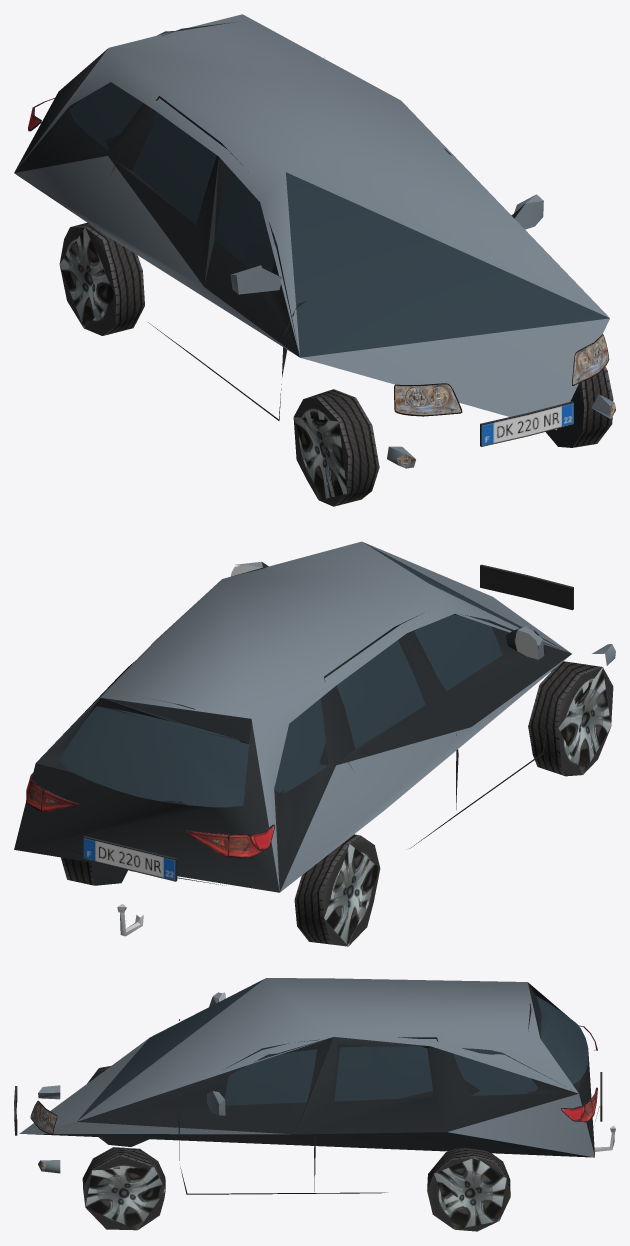
File: sedan_far.glb
The picture shows the model from 3 angles, top to bottom: view 1: azimuth 30°, elevation 25°; view 2: azimuth 150°, elevation 25°; view 3: azimuth 270°, elevation 25°; orthographic projection. The views are drawn at different scales.
Visible parts, largest first — view 1: paint-Body-body, glass-FrontGlass-body, rubber-BlackPlastic-body, glass-Glass-body, rubber-Tires-(False, False), rubber-Tires-(False, True), headlamp-FrontLights-body, trim-LicensePlate-body, rubber-Tires-(True, False), rubber-BackWheels-(True, False), rubber-Lines-body; view 2: paint-Body-body, rubber-BlackPlastic-body, glass-Glass-body, rubber-Tires-(False, False), rubber-Tires-(False, True), trim-LicensePlate-body, taillamp-RearLights-body, rubber-Lines-body, glass-FrontGlass-body, mirror-Mirror-body, rubber-Tires-(True, True), rubber-BackWheels-(True, True); view 3: paint-Body-body, rubber-BlackPlastic-body, glass-Glass-body, rubber-Tires-(True, True), rubber-Tires-(True, False), rubber-WheelArch-body, glass-FrontGlass-body, rubber-Lines-body, taillamp-RearLights-body, headlamp-FrontLights-body.
Part boxes in pixels (left/top/right/bottom): paint-Body-body: left=14, top=14, right=614, bottom=468; glass-FrontGlass-body: left=286, top=172, right=609, bottom=357; rubber-BlackPlastic-body: left=14, top=49, right=524, bottom=357; glass-Glass-body: left=71, top=31, right=277, bottom=271; rubber-Tires-(False, False): left=293, top=389, right=379, bottom=506; rubber-Tires-(False, True): left=59, top=222, right=144, bottom=335; headlamp-FrontLights-body: left=394, top=334, right=609, bottom=416; trim-LicensePlate-body: left=480, top=401, right=573, bottom=446; rubber-Tires-(True, False): left=572, top=366, right=613, bottom=447; rubber-BackWheels-(True, False): left=546, top=388, right=584, bottom=447; rubber-Lines-body: left=111, top=22, right=306, bottom=420; paint-Body-body: left=45, top=541, right=615, bottom=892; rubber-BlackPlastic-body: left=14, top=562, right=571, bottom=892; glass-Glass-body: left=58, top=615, right=502, bottom=807; rubber-Tires-(False, False): left=528, top=661, right=613, bottom=776; rubber-Tires-(False, True): left=294, top=834, right=380, bottom=946; trim-LicensePlate-body: left=83, top=564, right=573, bottom=881; taillamp-RearLights-body: left=26, top=773, right=274, bottom=858; rubber-Lines-body: left=59, top=613, right=550, bottom=885; glass-FrontGlass-body: left=365, top=543, right=567, bottom=651; mirror-Mirror-body: left=231, top=565, right=538, bottom=659; rubber-Tires-(True, True): left=61, top=857, right=94, bottom=885; rubber-BackWheels-(True, True): left=91, top=862, right=127, bottom=885; paint-Body-body: left=19, top=978, right=594, bottom=1173; rubber-BlackPlastic-body: left=77, top=982, right=594, bottom=1155; glass-Glass-body: left=225, top=996, right=588, bottom=1105; rubber-Tires-(True, True): left=427, top=1147, right=510, bottom=1231; rubber-Tires-(True, False): left=82, top=1147, right=165, bottom=1230; rubber-WheelArch-body: left=27, top=1132, right=594, bottom=1157; glass-FrontGlass-body: left=77, top=979, right=264, bottom=1121; rubber-Lines-body: left=178, top=1003, right=599, bottom=1194; taillamp-RearLights-body: left=561, top=1025, right=597, bottom=1122; headlamp-FrontLights-body: left=30, top=1100, right=57, bottom=1134.
Size of the model in its own units: 2 by 1.52 by 4.57.
15 materials, 5 textured.
